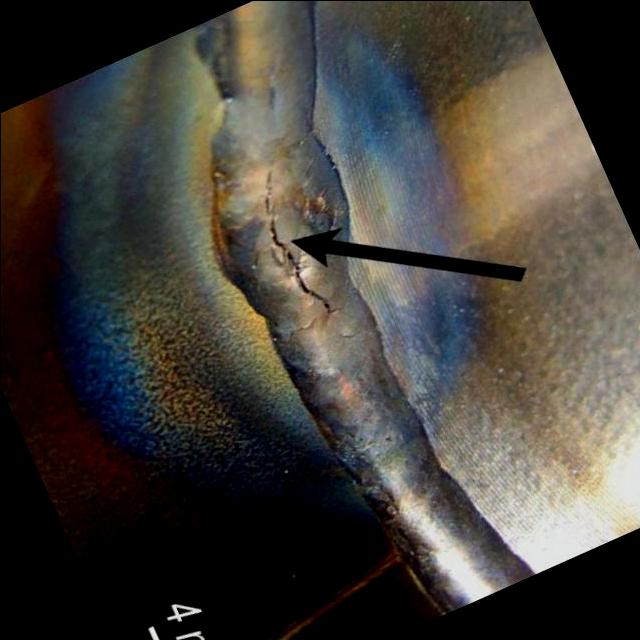defect: (259, 167, 351, 320)
